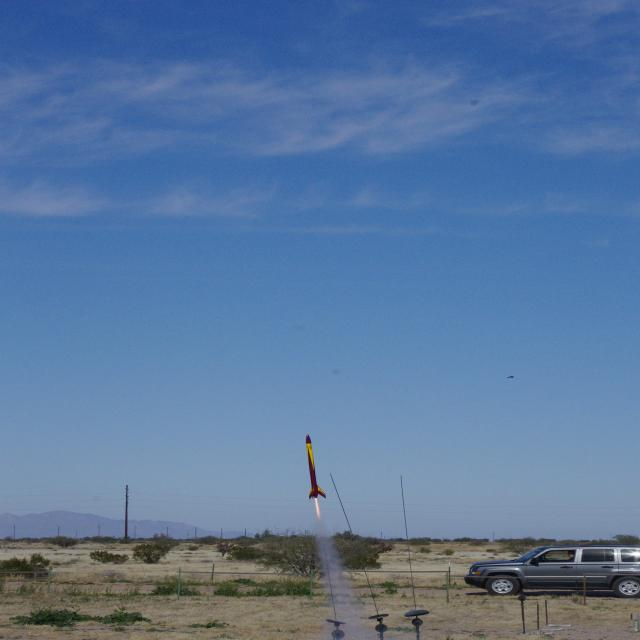Rocket: (304, 433, 326, 499)
